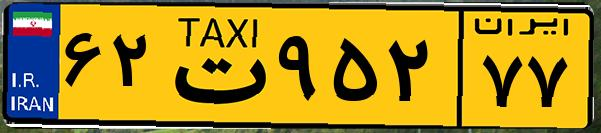2: (385, 28, 445, 110), (110, 28, 158, 98)
5: (330, 28, 385, 110)
6: (57, 26, 110, 100)
7: (475, 38, 525, 113), (525, 38, 570, 115)
9: (270, 28, 330, 110)
ت: (158, 12, 270, 120)
